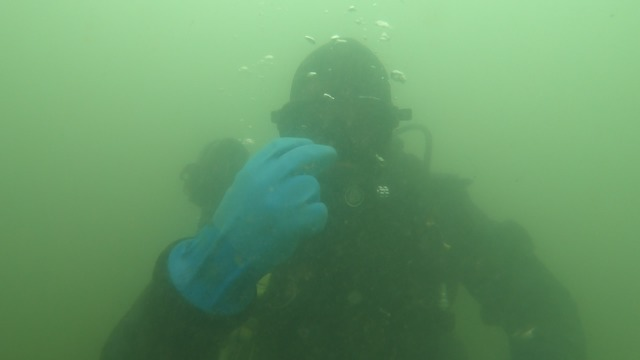Hand: (177, 116, 335, 286)
Head: (265, 26, 408, 217)
